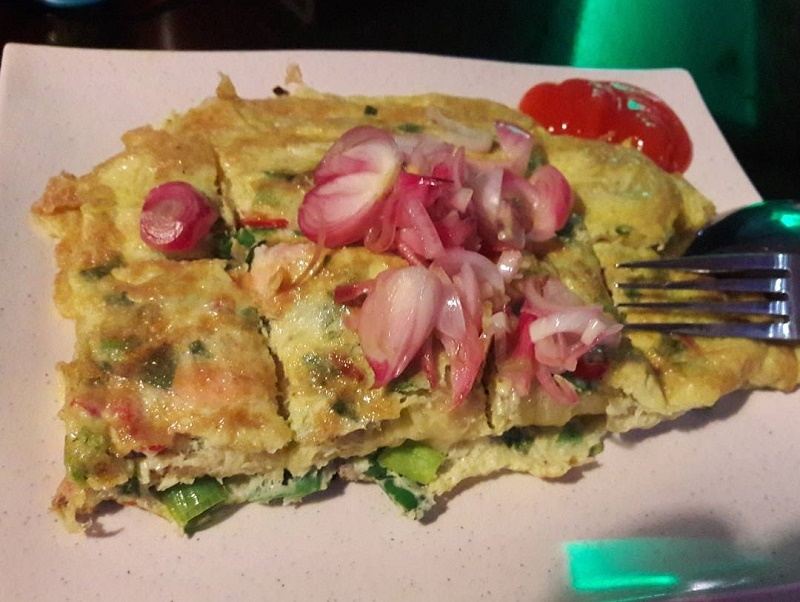martabak: (47, 83, 800, 541)
